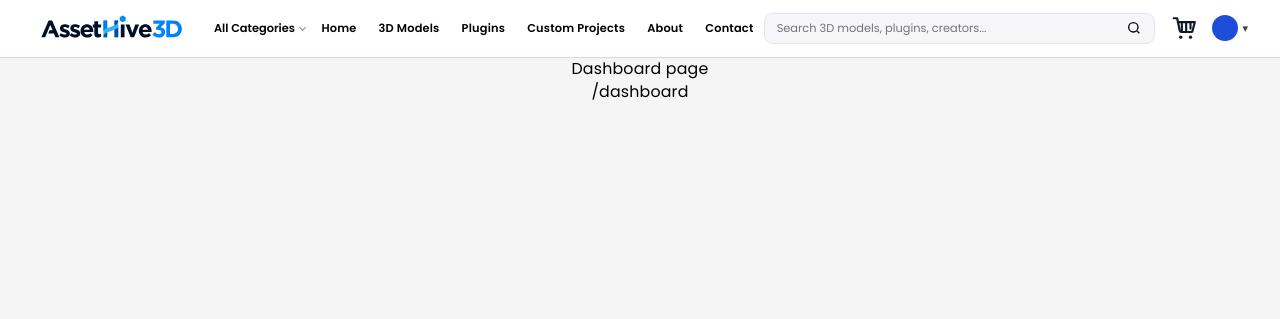
Test case: Navbar › navigates to the home page after sign out from a protected route
Expected: the text "Dashboard page" is shown, [572,57,708,80]
Click the button named "Test" at (1230, 28), box [1212,9,1248,47]
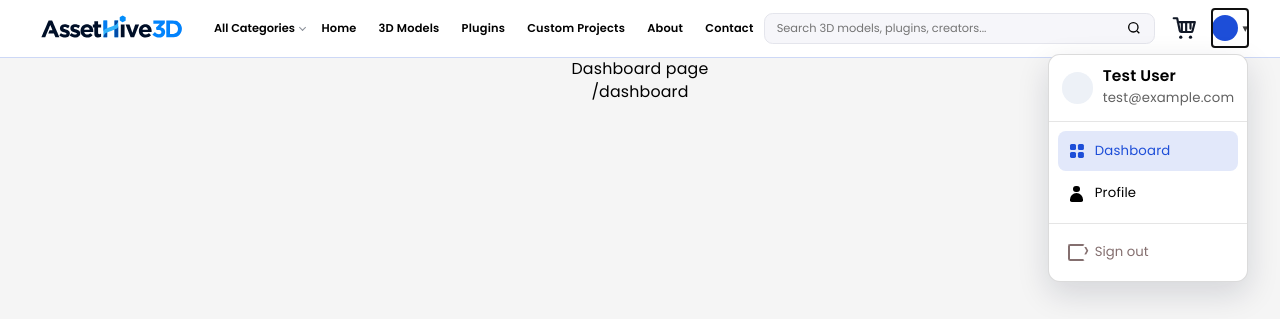
Click the menu item "Sign out" at (1148, 252), box [1058,232,1238,272]
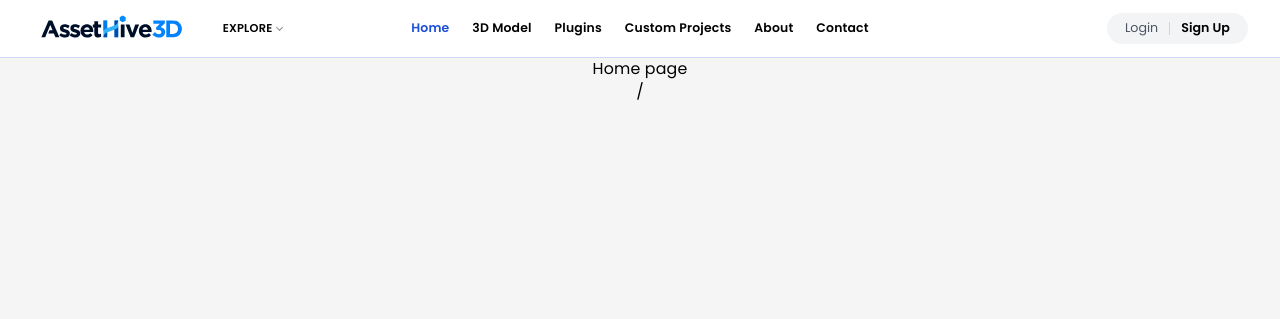
Now the text with test id "location" reads "/", box [636,80,644,103]
Now the text "Home page" is shown, box [593,57,688,80]
Now the button "Login" is shown, box [1119,19,1165,38]
